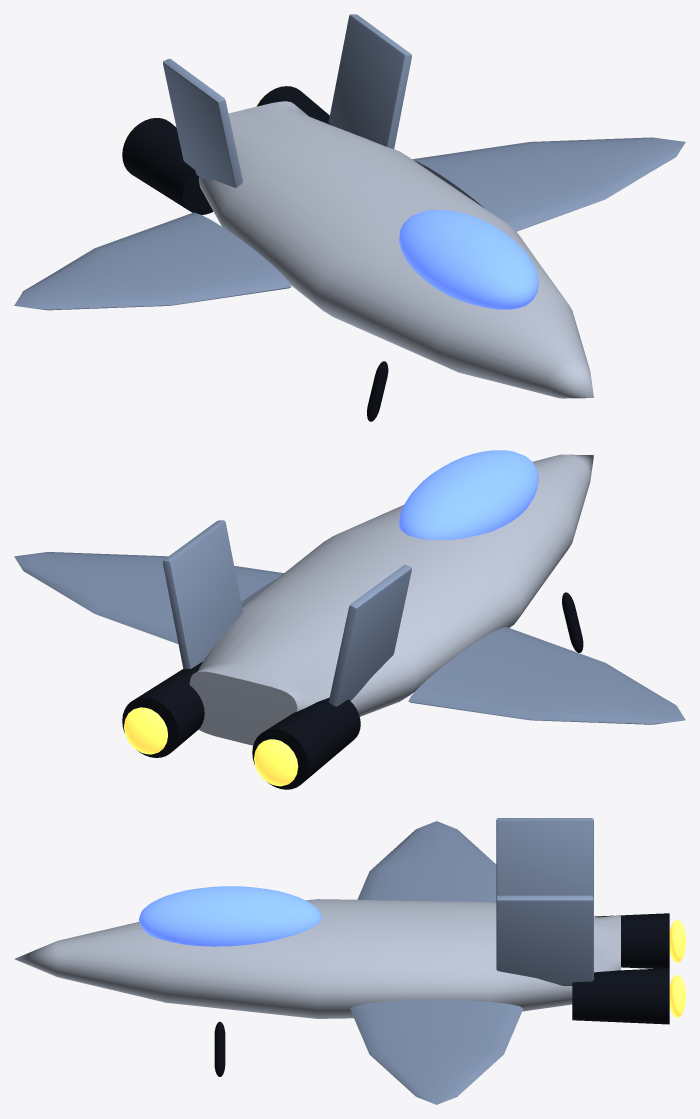
The model's file is coin.glb.
3 renders of one model, top to bottom at view 1: azimuth 30°, elevation 25°; view 2: azimuth 150°, elevation 25°; view 3: azimuth 270°, elevation 25°, orthographic. The views are drawn at different scales.
Visible parts, largest first — view 1: model; view 2: model; view 3: model.
Boxes of the visible parts, bbox=[...] form: model: bbox=[14, 14, 685, 421]; model: bbox=[14, 450, 685, 789]; model: bbox=[14, 818, 685, 1104].
Bounding box in the file's own units: 3.1 × 0.8918 × 3.1.
